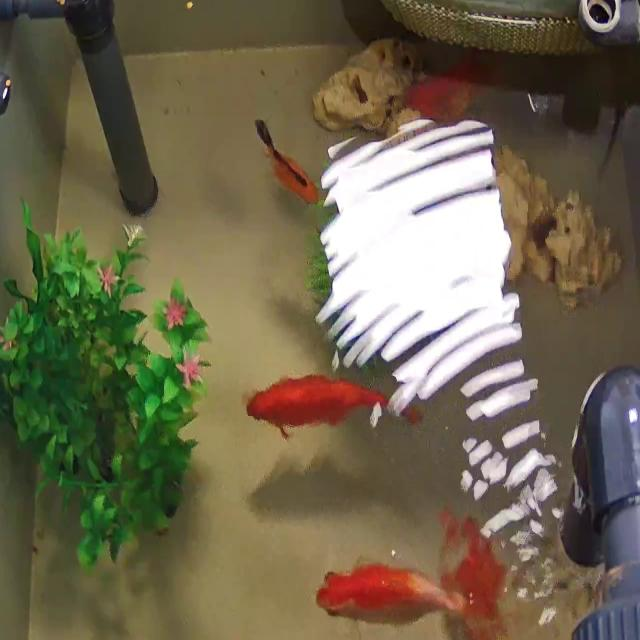fish: (244, 373, 409, 439), (440, 517, 514, 640), (321, 563, 452, 625), (254, 119, 319, 208), (405, 65, 484, 126)
